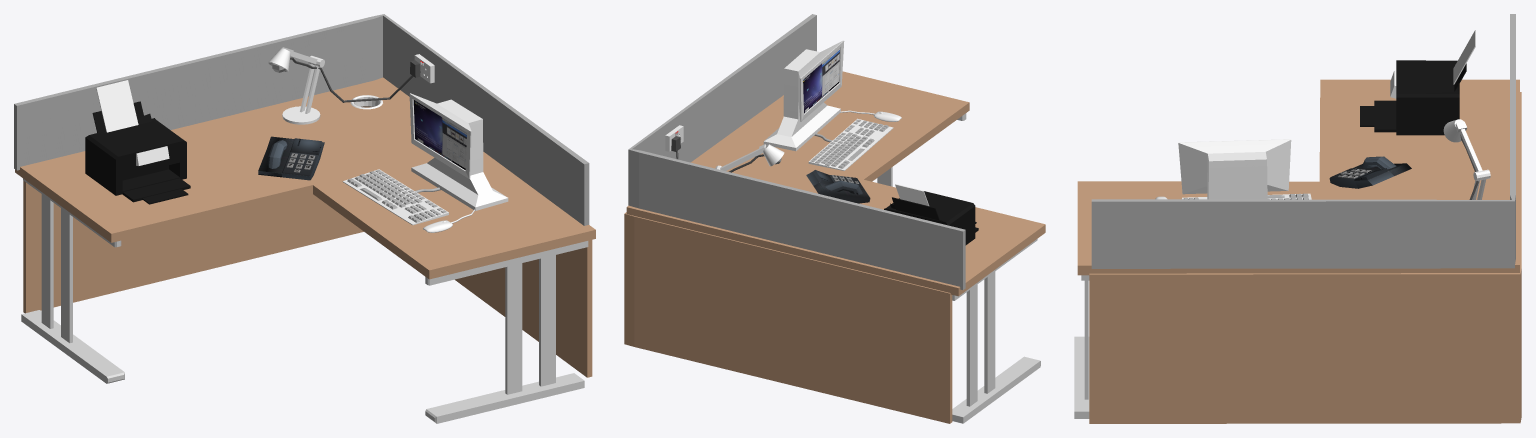
3 views of the same model, side by side, from view 1: azimuth 30°, elevation 25°; view 2: azimuth 150°, elevation 25°; view 3: azimuth 270°, elevation 25° (orthographic). The views are drawn at different scales.
Visible parts, largest first — view 1: Office_Desk_L_2:pTorus2, Office_Desk_L_2:pCube13, Office_Desk_L_2:pCube12, pCube107, Office_Desk_L_2:pCube9, Office_Desk_L_2:pCube6, pCube121, polySurface12, pCylinder6, pCube122, pCube116; view 2: Office_Desk_L_2:pCube12, Office_Desk_L_2:pCube13, Office_Desk_L_2:pTorus2, pCube107, Office_Desk_L_2:pCube6, pCube121, polySurface12, pCylinder6, pCube114, pCube122; view 3: Office_Desk_L_2:pCube12, Office_Desk_L_2:pCube13, Office_Desk_L_2:pTorus2, pCube107, pCube121, Office_Desk_L_2:pCube9, polySurface12, pCylinder6, pCube116, pCube122.
Boxes of the visible parts, bbox=[...] form: Office_Desk_L_2:pTorus2: bbox=[15, 77, 595, 279]; Office_Desk_L_2:pCube13: bbox=[14, 14, 589, 225]; Office_Desk_L_2:pCube12: bbox=[23, 107, 592, 377]; pCube107: bbox=[342, 93, 508, 232]; Office_Desk_L_2:pCube9: bbox=[425, 241, 588, 423]; Office_Desk_L_2:pCube6: bbox=[21, 178, 124, 383]; pCube121: bbox=[85, 113, 186, 195]; polySurface12: bbox=[258, 136, 324, 180]; pCylinder6: bbox=[268, 47, 324, 124]; pCube122: bbox=[96, 80, 138, 132]; pCube116: bbox=[122, 178, 190, 202]; Office_Desk_L_2:pCube12: bbox=[624, 212, 952, 423]; Office_Desk_L_2:pCube13: bbox=[628, 14, 965, 289]; Office_Desk_L_2:pTorus2: bbox=[626, 71, 1045, 296]; pCube107: bbox=[763, 40, 901, 170]; Office_Desk_L_2:pCube6: bbox=[952, 239, 1040, 423]; pCube121: bbox=[884, 191, 975, 245]; polySurface12: bbox=[806, 170, 870, 203]; pCylinder6: bbox=[715, 144, 784, 170]; pCube114: bbox=[892, 197, 939, 220]; pCube122: bbox=[895, 184, 929, 205]; Office_Desk_L_2:pCube12: bbox=[1089, 92, 1521, 423]; Office_Desk_L_2:pCube13: bbox=[1091, 14, 1515, 268]; Office_Desk_L_2:pTorus2: bbox=[1077, 79, 1519, 275]; pCube107: bbox=[1155, 139, 1311, 199]; pCube121: bbox=[1396, 60, 1459, 135]; Office_Desk_L_2:pCube9: bbox=[1074, 275, 1089, 418]; polySurface12: bbox=[1329, 163, 1411, 188]; pCylinder6: bbox=[1443, 119, 1490, 199]; pCube116: bbox=[1374, 100, 1396, 132]; pCube122: bbox=[1453, 30, 1475, 84].
Bounding box in the file's own units: 12.95 × 7.82 × 12.96.
23 materials, 12 textured.
